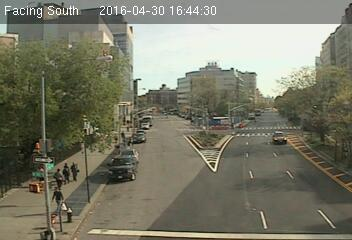neg: (195, 73, 231, 120), (268, 183, 302, 229), (95, 68, 127, 112), (124, 29, 156, 71), (248, 102, 279, 144), (250, 28, 281, 68), (291, 103, 320, 142), (215, 164, 244, 203), (157, 161, 186, 200), (42, 76, 68, 110), (117, 127, 135, 152), (156, 98, 171, 117)
pos: (69, 161, 87, 184), (48, 186, 64, 207), (57, 159, 72, 179), (49, 164, 63, 183)
